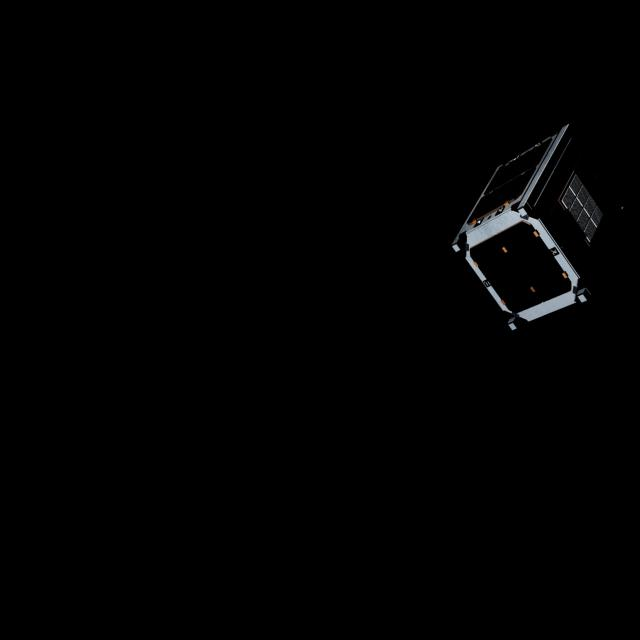medium_debris: (450, 120, 634, 338)
